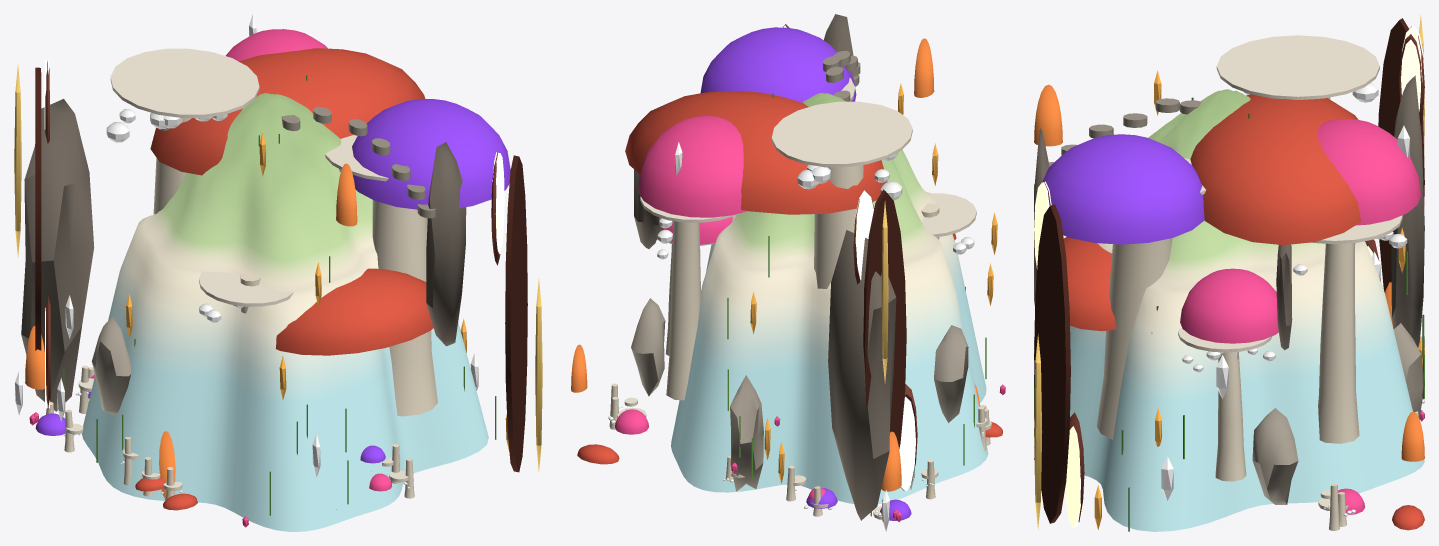
Rendered from ile-champignons.glb.
3 renders of one model, left to right at view 1: azimuth 30°, elevation 25°; view 2: azimuth 150°, elevation 25°; view 3: azimuth 270°, elevation 25°, orthographic. The views are drawn at different scales.
Parts seen in each view (by area): view 1: champignons_decor, champignons_terrain; view 2: champignons_decor, champignons_terrain; view 3: champignons_decor, champignons_terrain.
Part boxes in pixels (x1,y1,x2,y2): champignons_decor: (14,14,542,527); champignons_terrain: (81,93,488,531); champignons_decor: (571,14,1005,531); champignons_terrain: (671,93,988,504); champignons_decor: (1034,14,1424,531); champignons_terrain: (1034,89,1424,531).
Bounding box in the file's own units: 2 × 2 × 2.
